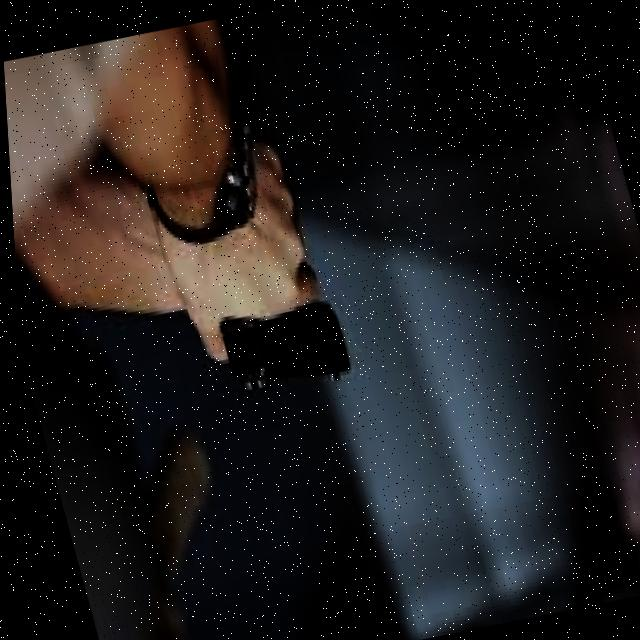pistol: (211, 297, 351, 402)
